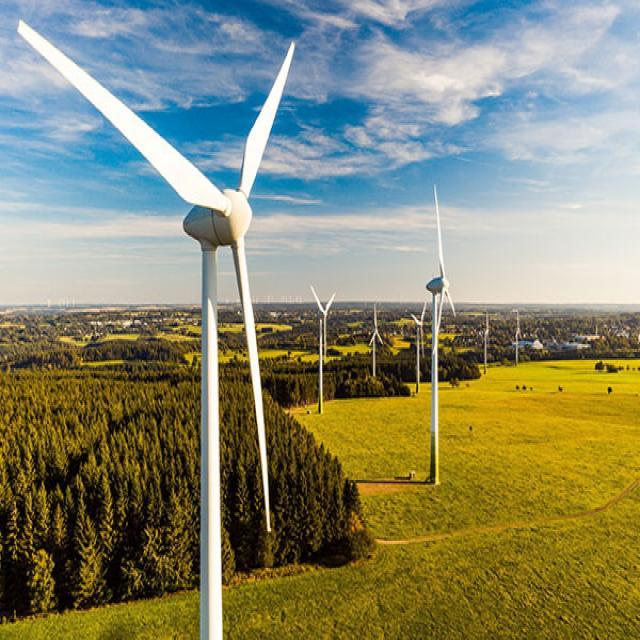solid-blade: (19, 21, 229, 213), (232, 236, 271, 531), (239, 42, 295, 196)
